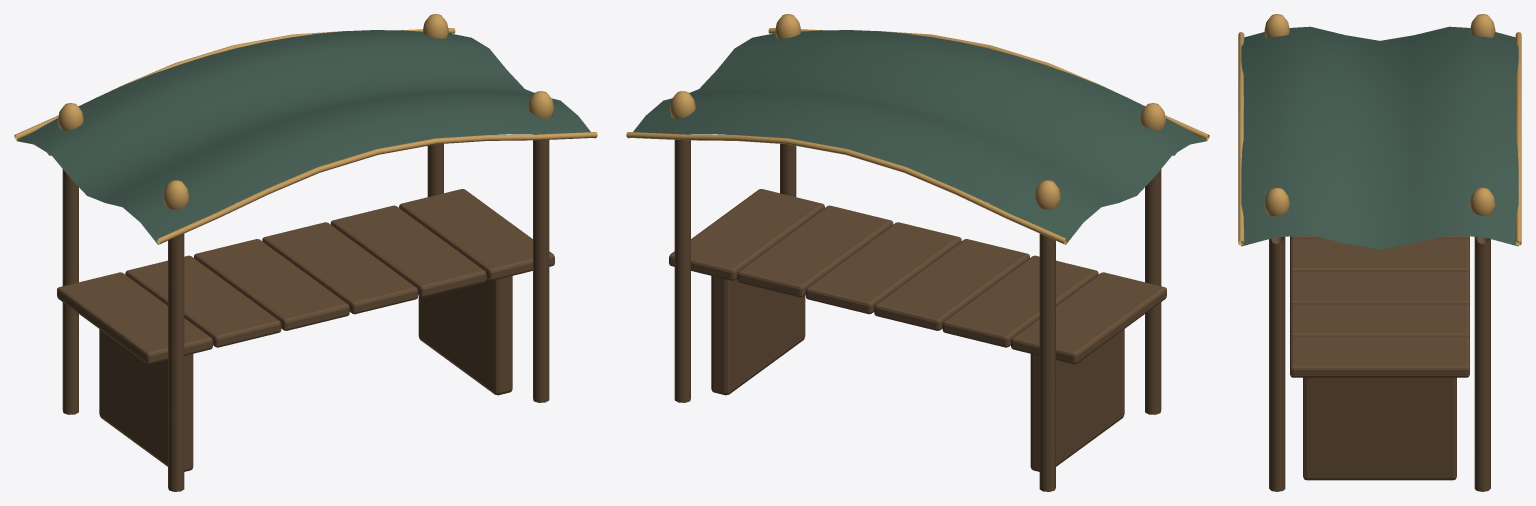
File: MerchantPavilion.fbx
3 renders of one model, left to right at view 1: azimuth 30°, elevation 25°; view 2: azimuth 150°, elevation 25°; view 3: azimuth 270°, elevation 25°, orthographic. The views are drawn at different scales.
Parts seen in each view (by area): view 1: Draped canvas_export, Counter trestle.001_export, Counter trestle_export, Counter plank.004_export, Counter plank.002_export, Counter plank.003_export, Counter plank_export, Counter plank.005_export, Counter plank.001_export, Turned timber post.002_export, Turned timber post_export, Turned timber post.001_export (+4 smaller); view 2: Draped canvas_export, Counter trestle.001_export, Counter trestle_export, Counter plank.004_export, Counter plank.002_export, Counter plank.003_export, Counter plank_export, Counter plank.005_export, Counter plank.001_export, Turned timber post.003_export, Turned timber post.001_export, Turned timber post_export (+4 smaller); view 3: Draped canvas_export, Counter trestle.001_export, Counter plank.005_export, Counter plank.004_export, Counter plank.003_export, Counter plank.002_export, Turned timber post.002_export, Turned timber post.003_export, Canopy gilt piping.001_export, Canopy gilt piping_export, Finial.002_export, Finial.003_export (+2 smaller).
Boxes of the visible parts, bbox=[...] form: Draped canvas_export: bbox=[16, 30, 595, 244]; Counter trestle.001_export: bbox=[418, 276, 512, 395]; Counter trestle_export: bbox=[99, 329, 193, 471]; Counter plank.004_export: bbox=[330, 205, 486, 297]; Counter plank.002_export: bbox=[194, 239, 349, 330]; Counter plank.003_export: bbox=[262, 222, 417, 314]; Counter plank_export: bbox=[57, 272, 212, 364]; Counter plank.005_export: bbox=[399, 189, 554, 280]; Counter plank.001_export: bbox=[125, 255, 281, 347]; Turned timber post.002_export: bbox=[533, 134, 549, 402]; Turned timber post_export: bbox=[168, 234, 184, 491]; Turned timber post.001_export: bbox=[62, 169, 78, 414]; Draped canvas_export: bbox=[628, 30, 1207, 244]; Counter trestle.001_export: bbox=[711, 276, 805, 395]; Counter trestle_export: bbox=[1030, 329, 1124, 471]; Counter plank.004_export: bbox=[737, 205, 893, 297]; Counter plank.002_export: bbox=[874, 239, 1029, 330]; Counter plank.003_export: bbox=[806, 222, 961, 314]; Counter plank_export: bbox=[1011, 272, 1166, 364]; Counter plank.005_export: bbox=[669, 189, 824, 280]; Counter plank.001_export: bbox=[942, 255, 1098, 347]; Turned timber post.003_export: bbox=[674, 134, 690, 402]; Turned timber post.001_export: bbox=[1039, 234, 1055, 491]; Turned timber post_export: bbox=[1145, 169, 1161, 414]; Draped canvas_export: bbox=[1241, 26, 1518, 249]; Counter trestle.001_export: bbox=[1303, 377, 1456, 480]; Counter plank.005_export: bbox=[1290, 337, 1469, 377]; Counter plank.004_export: bbox=[1290, 304, 1469, 339]; Counter plank.003_export: bbox=[1290, 272, 1469, 306]; Counter plank.002_export: bbox=[1290, 239, 1469, 274]; Turned timber post.002_export: bbox=[1269, 236, 1285, 491]; Turned timber post.003_export: bbox=[1474, 236, 1490, 491]; Canopy gilt piping.001_export: bbox=[1515, 32, 1521, 245]; Canopy gilt piping_export: bbox=[1238, 32, 1244, 245]; Finial.002_export: bbox=[1264, 187, 1289, 215]; Finial.003_export: bbox=[1470, 187, 1495, 215].
Bounding box in the file's own units: 962 × 664 × 552.
